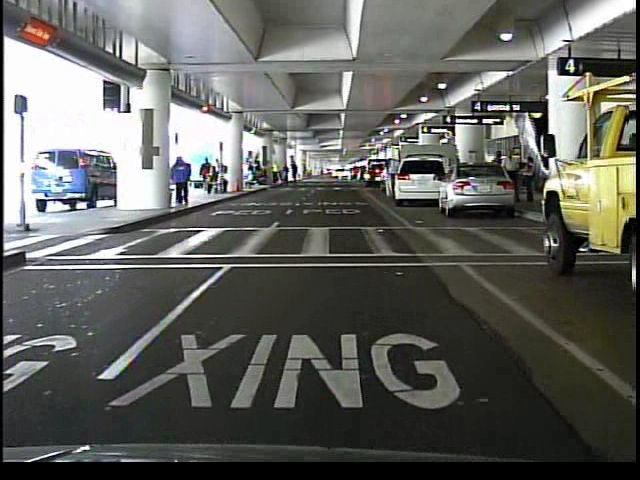person: (170, 152, 196, 207)
